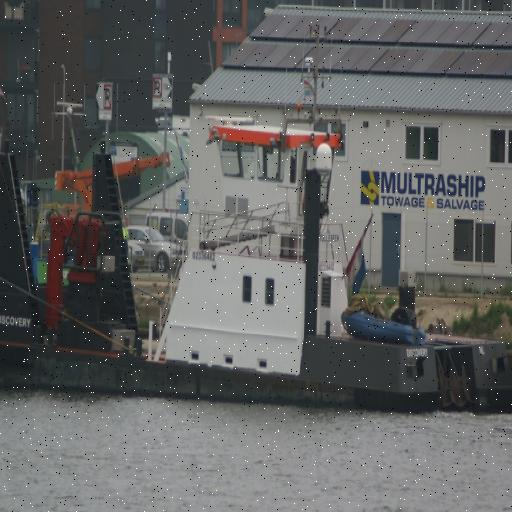tugboat: (144, 111, 512, 420)
